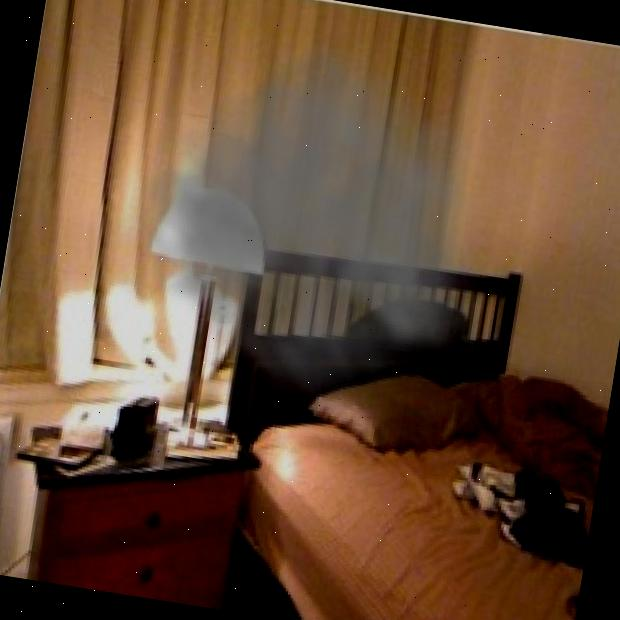smoke: (68, 0, 520, 448)
